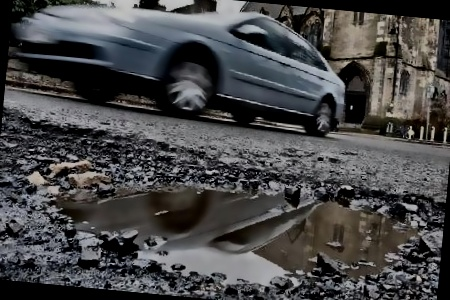pothole: (33, 140, 443, 300)
